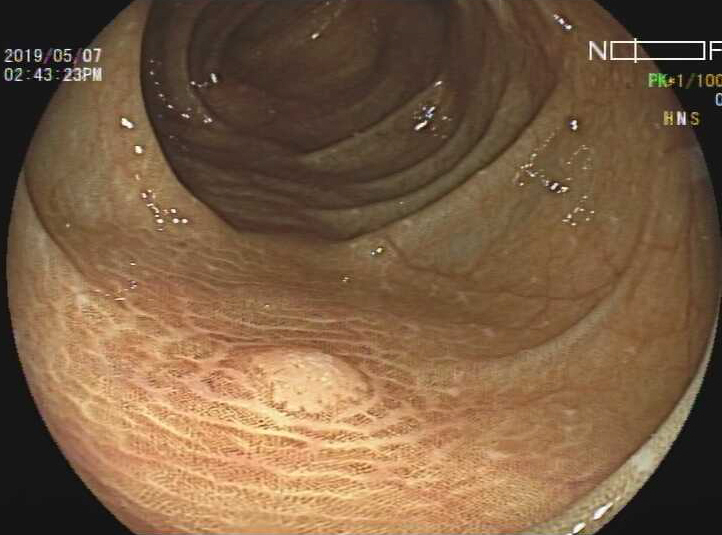adenoma: (235, 344, 372, 416)
